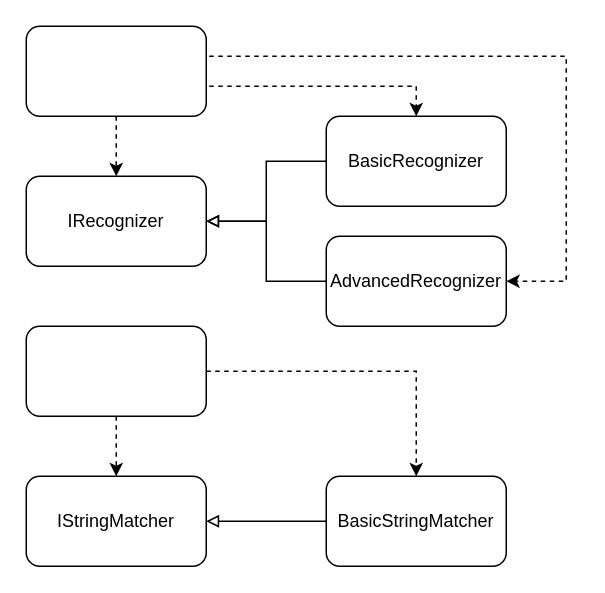
Image size: 605x593. Some labels were removed from this diagram. Here are the shapes that lost their labels. From the top down, the centre of each, then its label:
At (x=115, y=70): "RecognizerFactory".
At (x=115, y=370): "StringMatcherFactory".
